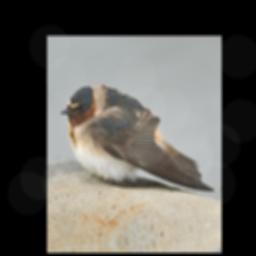Swallow: (57, 63, 216, 220)
